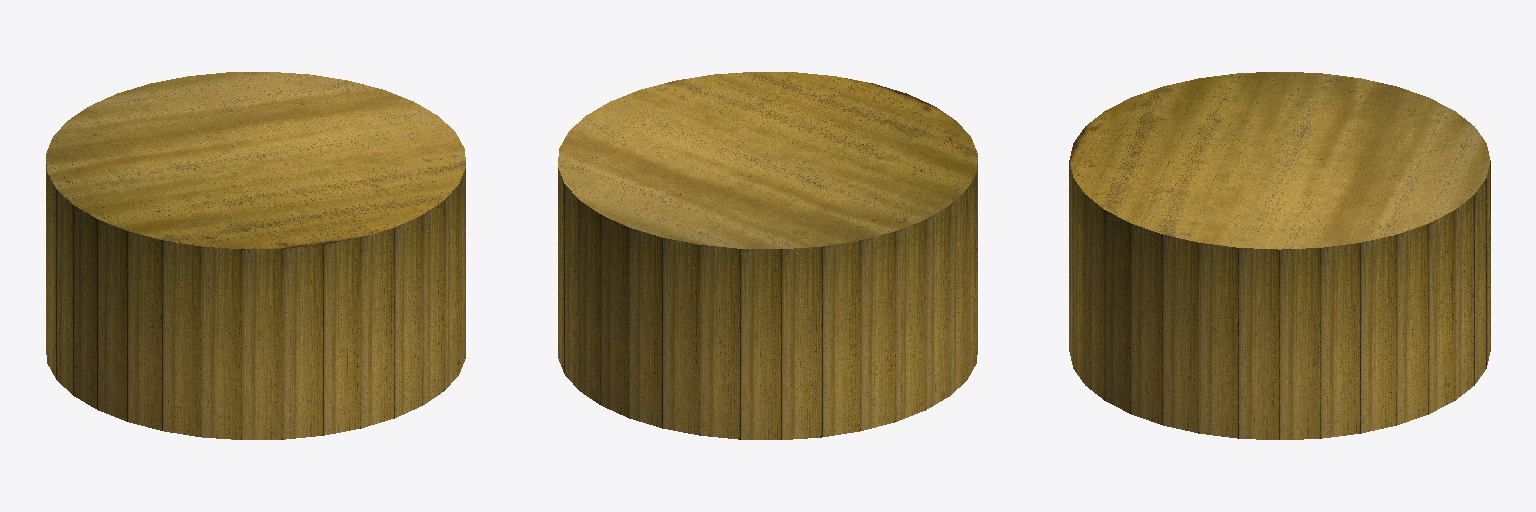
3 renders of one model, left to right at view 1: azimuth 30°, elevation 25°; view 2: azimuth 150°, elevation 25°; view 3: azimuth 270°, elevation 25°, orthographic.
Visible parts, largest first — view 1: Cylinder; view 2: Cylinder; view 3: Cylinder.
Part boxes in pixels (x1,y1,x2,y2): Cylinder: (46, 72, 465, 439); Cylinder: (558, 72, 977, 439); Cylinder: (1069, 72, 1490, 439).
Size of the model in its own units: 2 by 1 by 2.
1 materials, 1 textured.